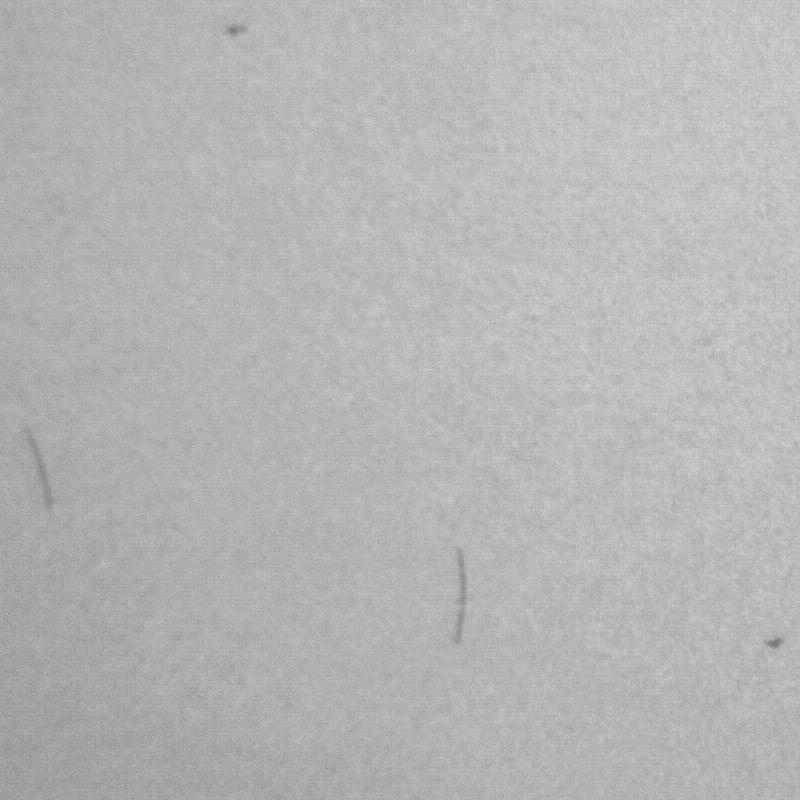defect: (22, 433, 52, 514), (450, 547, 473, 651), (767, 633, 789, 650), (226, 23, 248, 38)
